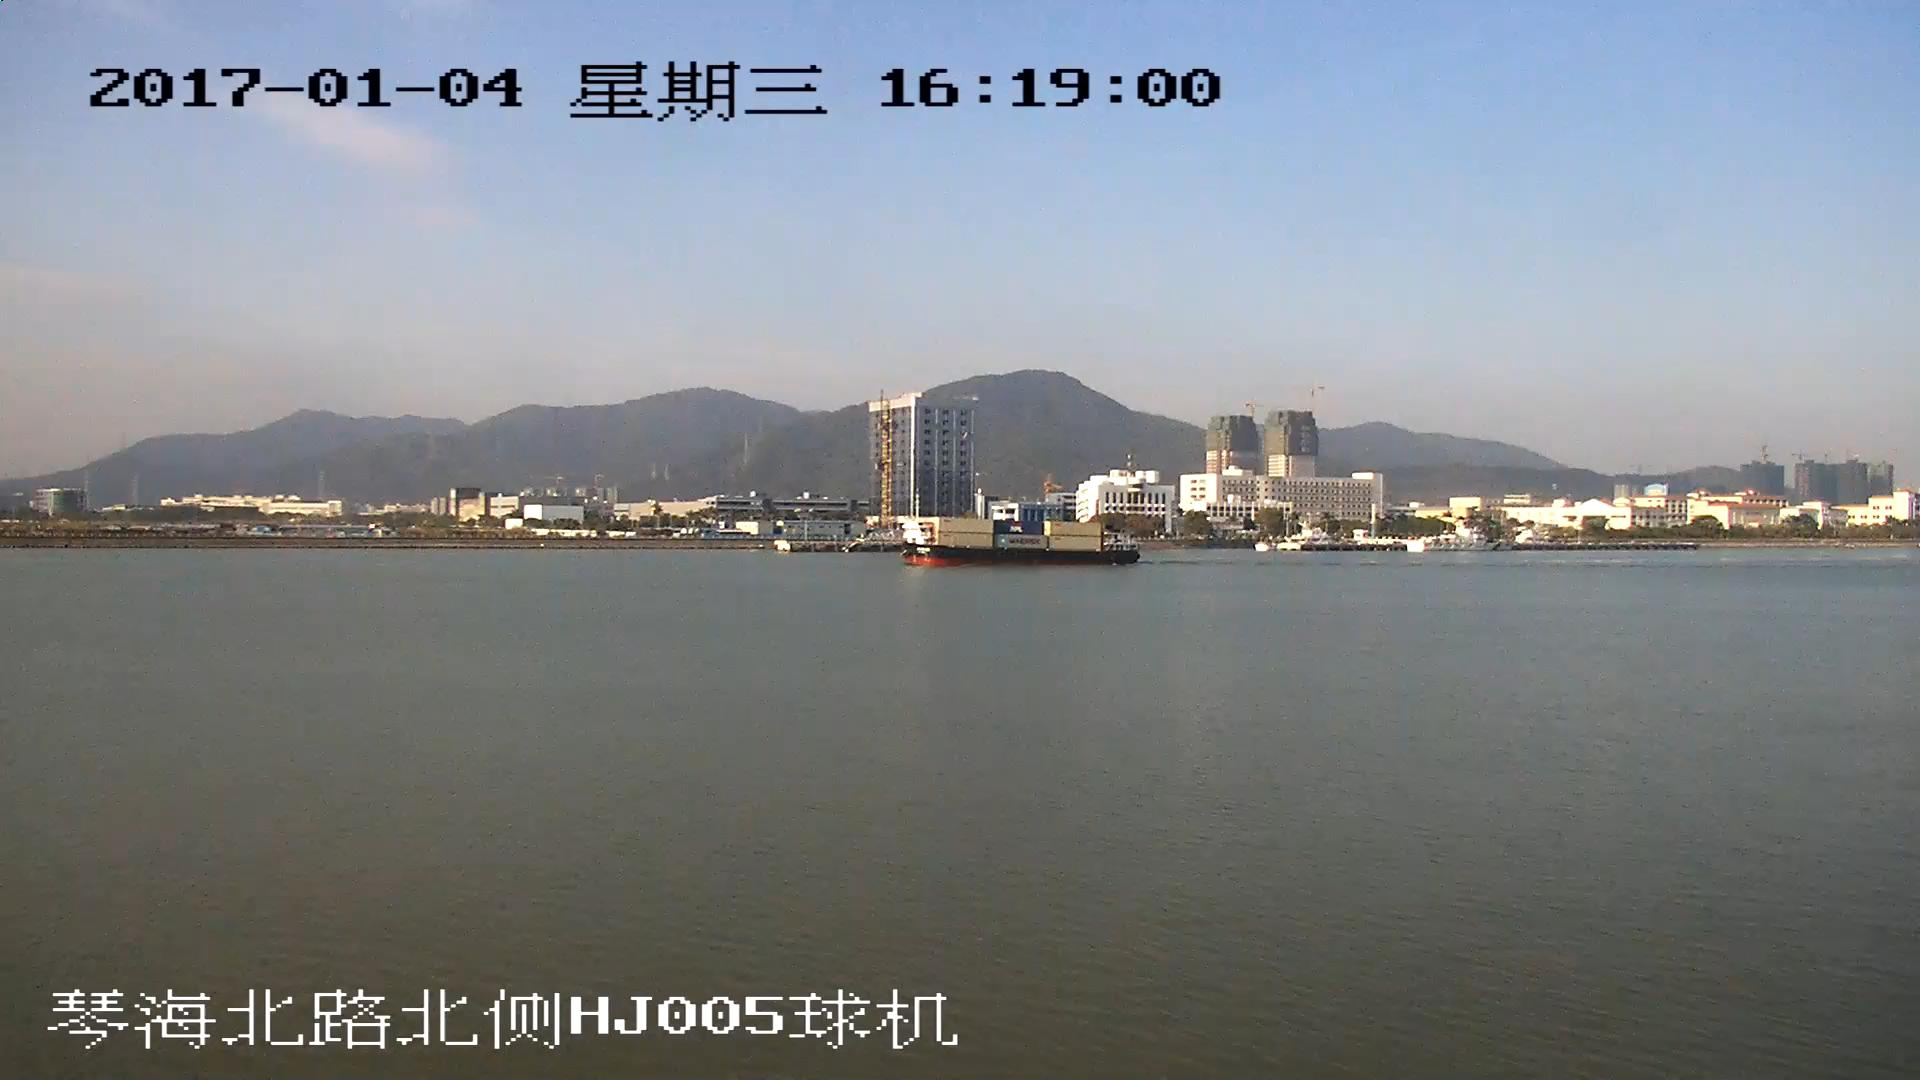container ship: (900, 515, 1142, 570)
